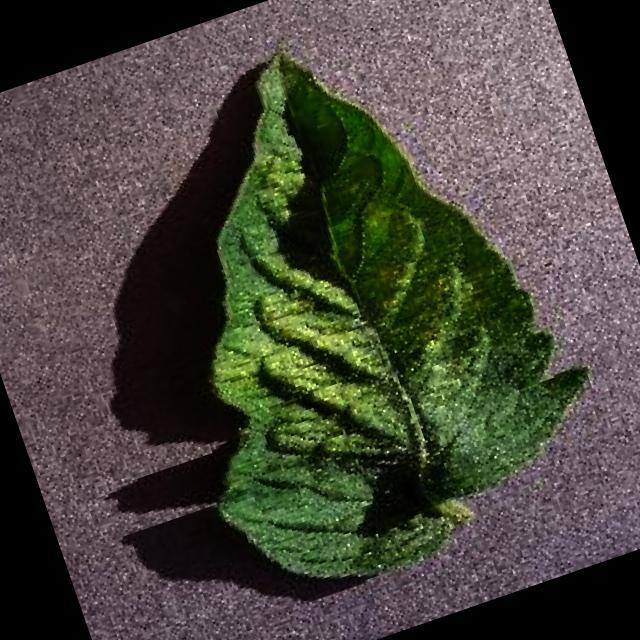Tomato spider mites leaf: (84, 0, 626, 619)
